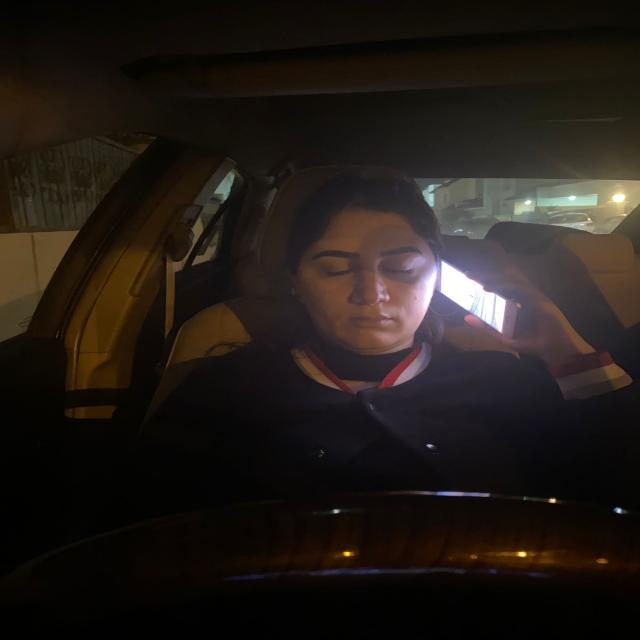phone: (432, 253, 521, 342)
